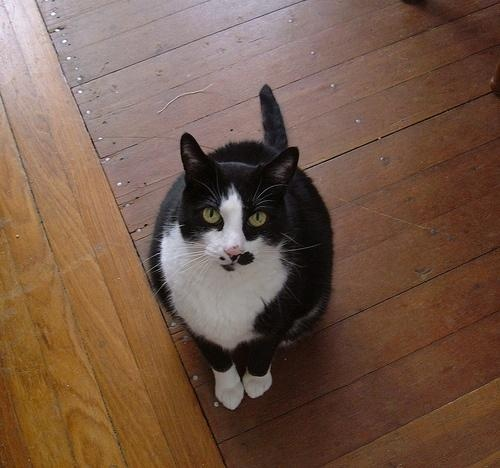cat: (144, 81, 338, 411)
